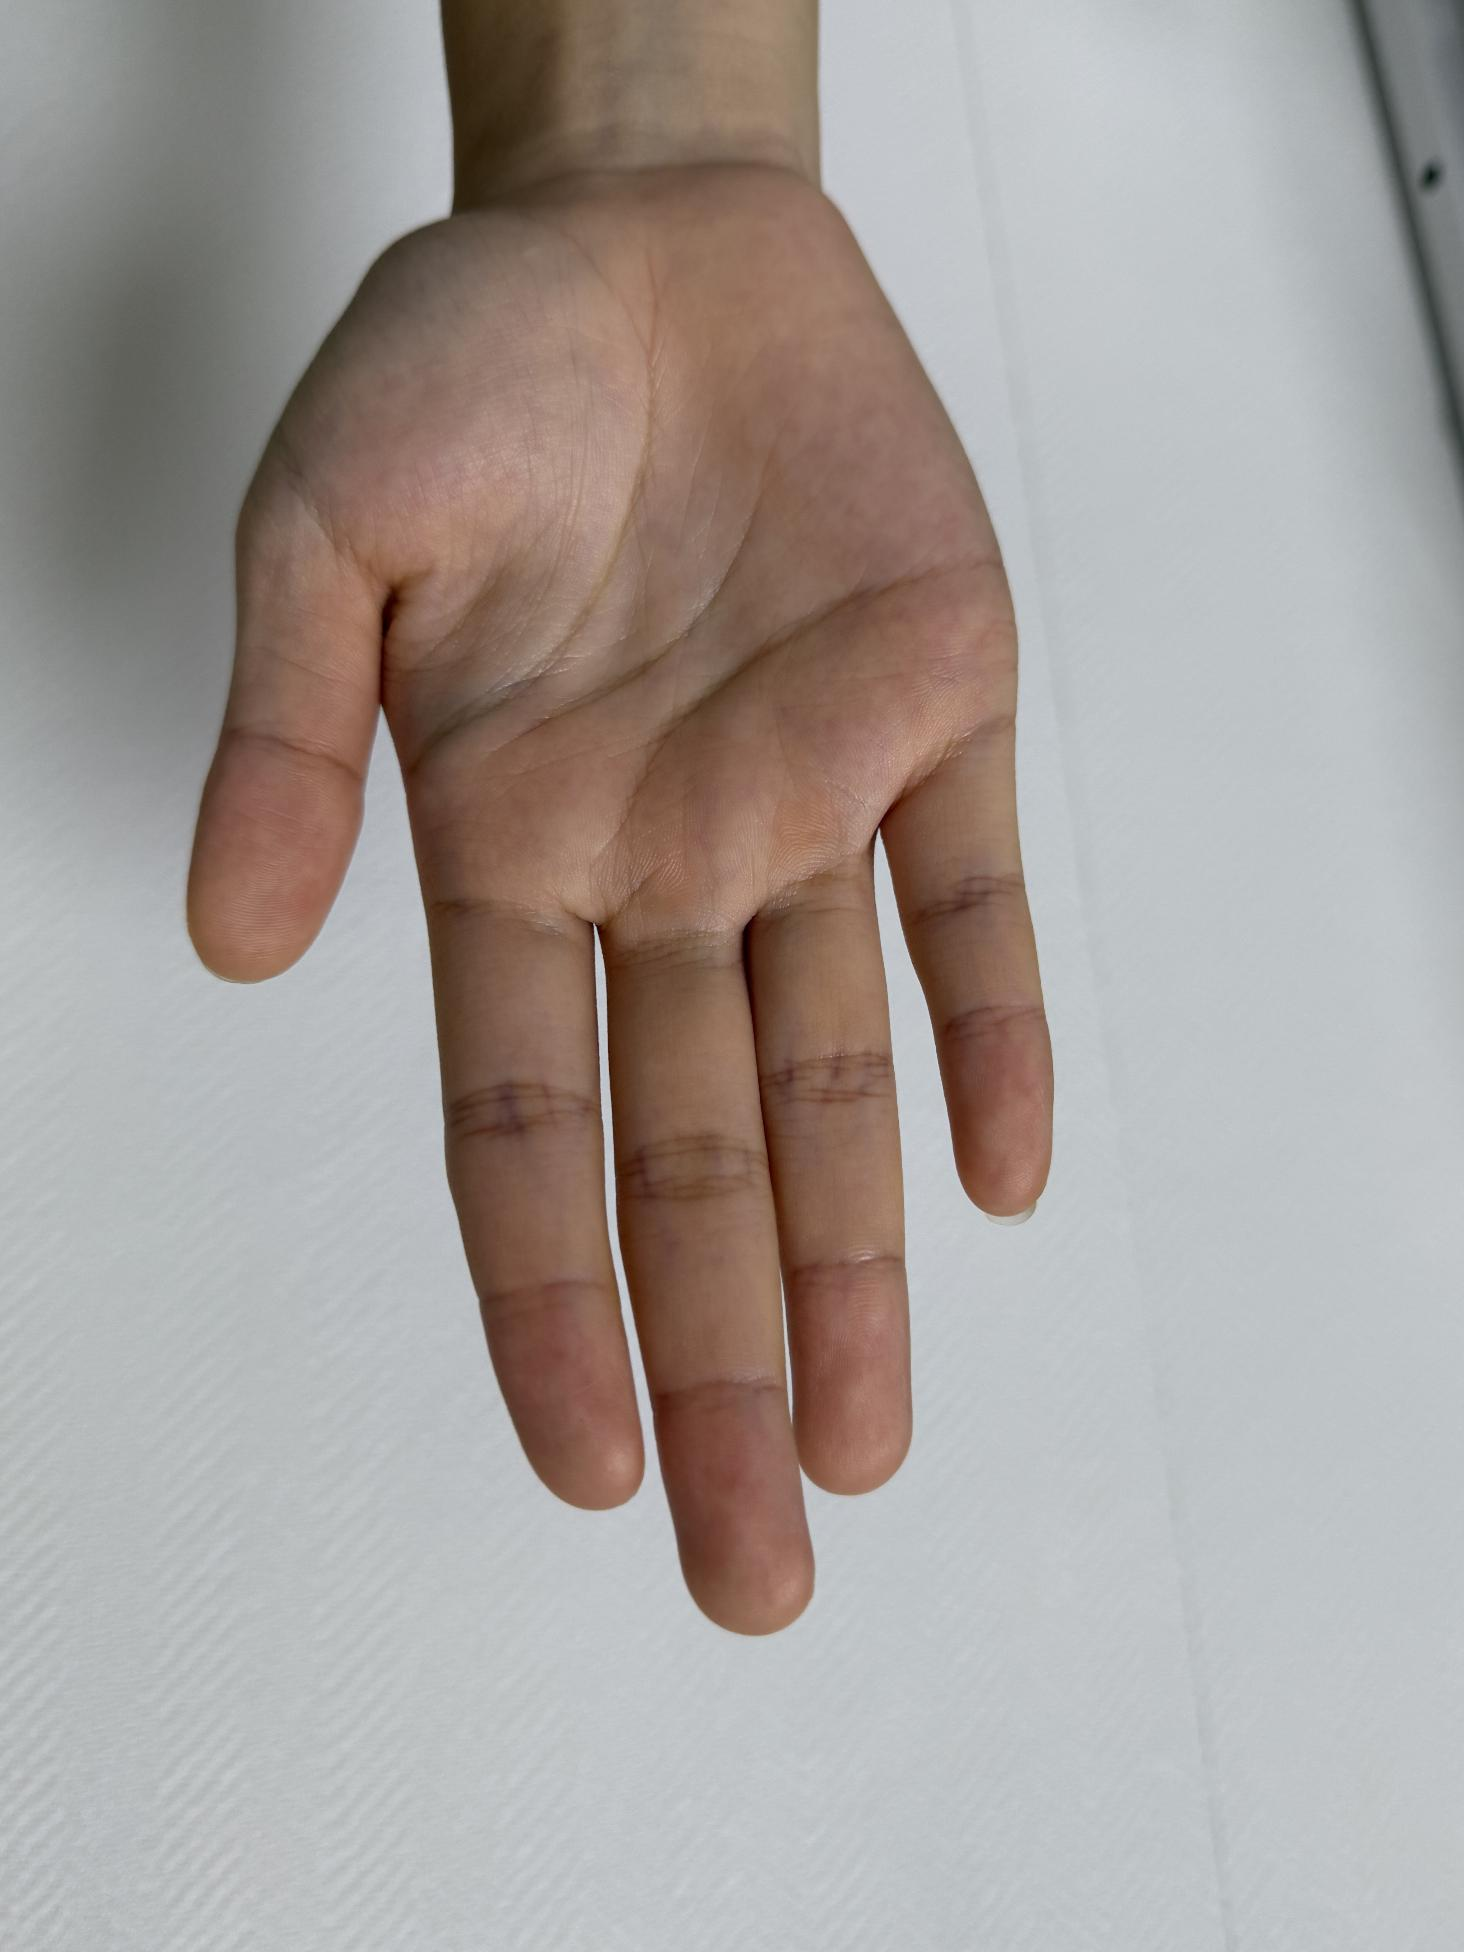open: (169, 115, 1069, 1648)
